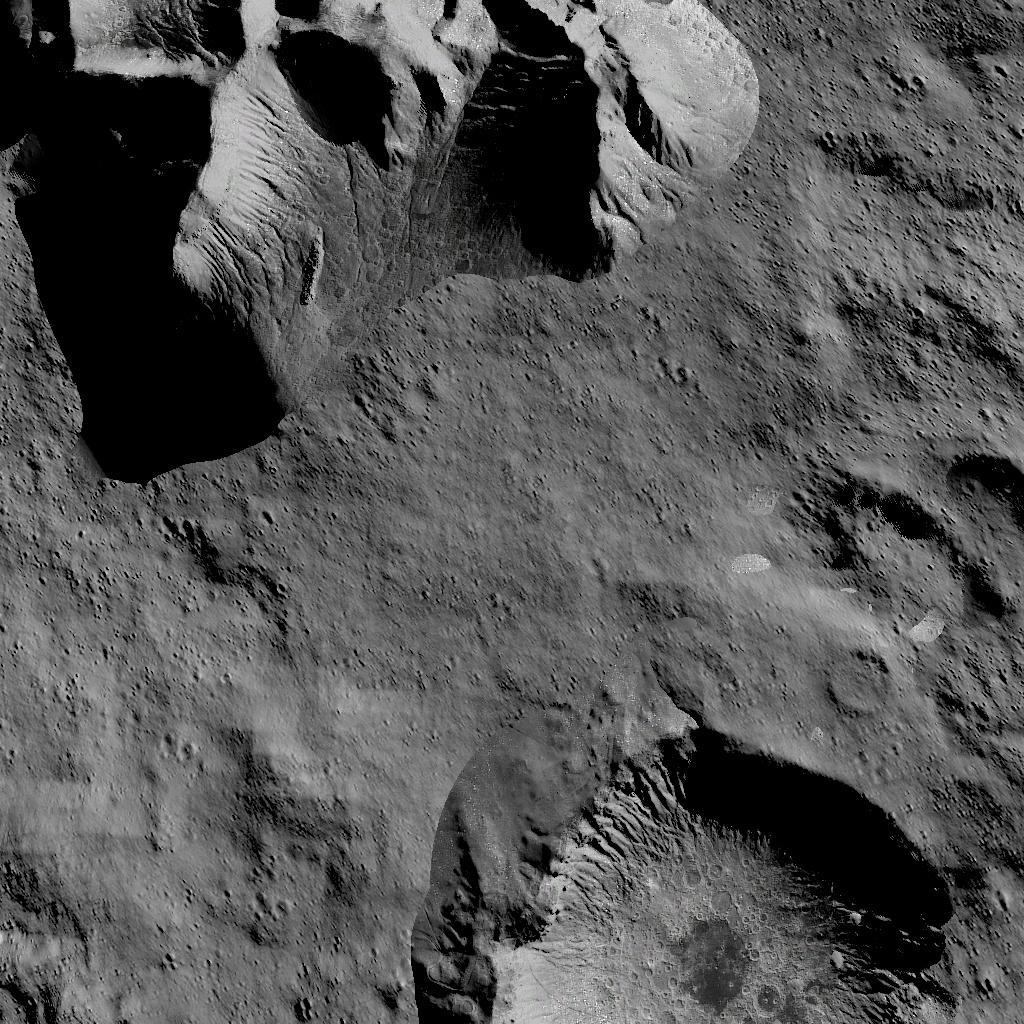Boulders: (0, 0, 760, 490)
Crater: (428, 702, 968, 1024), (803, 432, 1024, 660)
Plan surface: (0, 532, 403, 928), (795, 0, 1024, 399), (420, 520, 788, 668)
